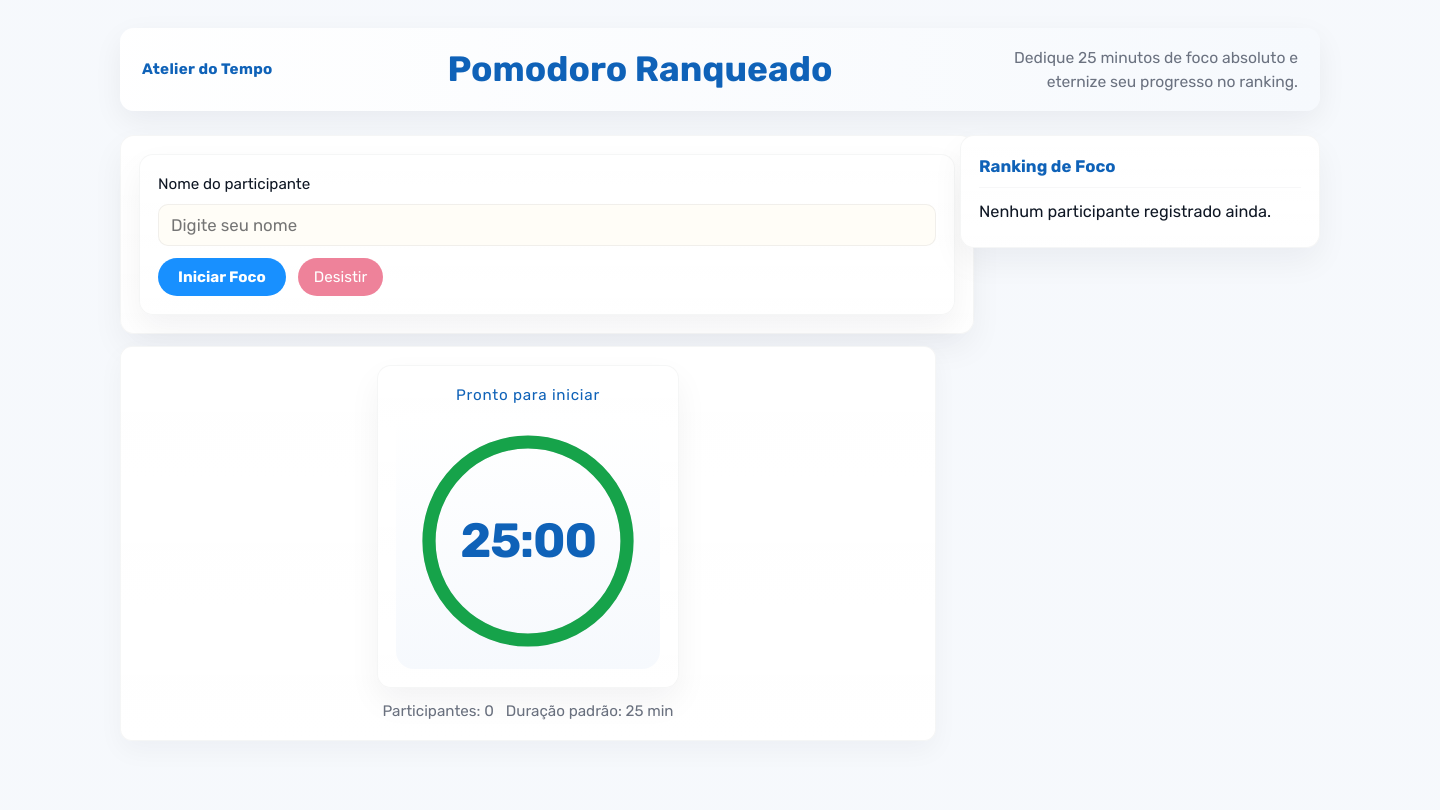
Test case: execução da sessão › desiste sem registrar tempo parcial
In the field labelled "Nome do participante": (547, 225) x1=158 y1=204 x2=936 y2=246, type "Ana"
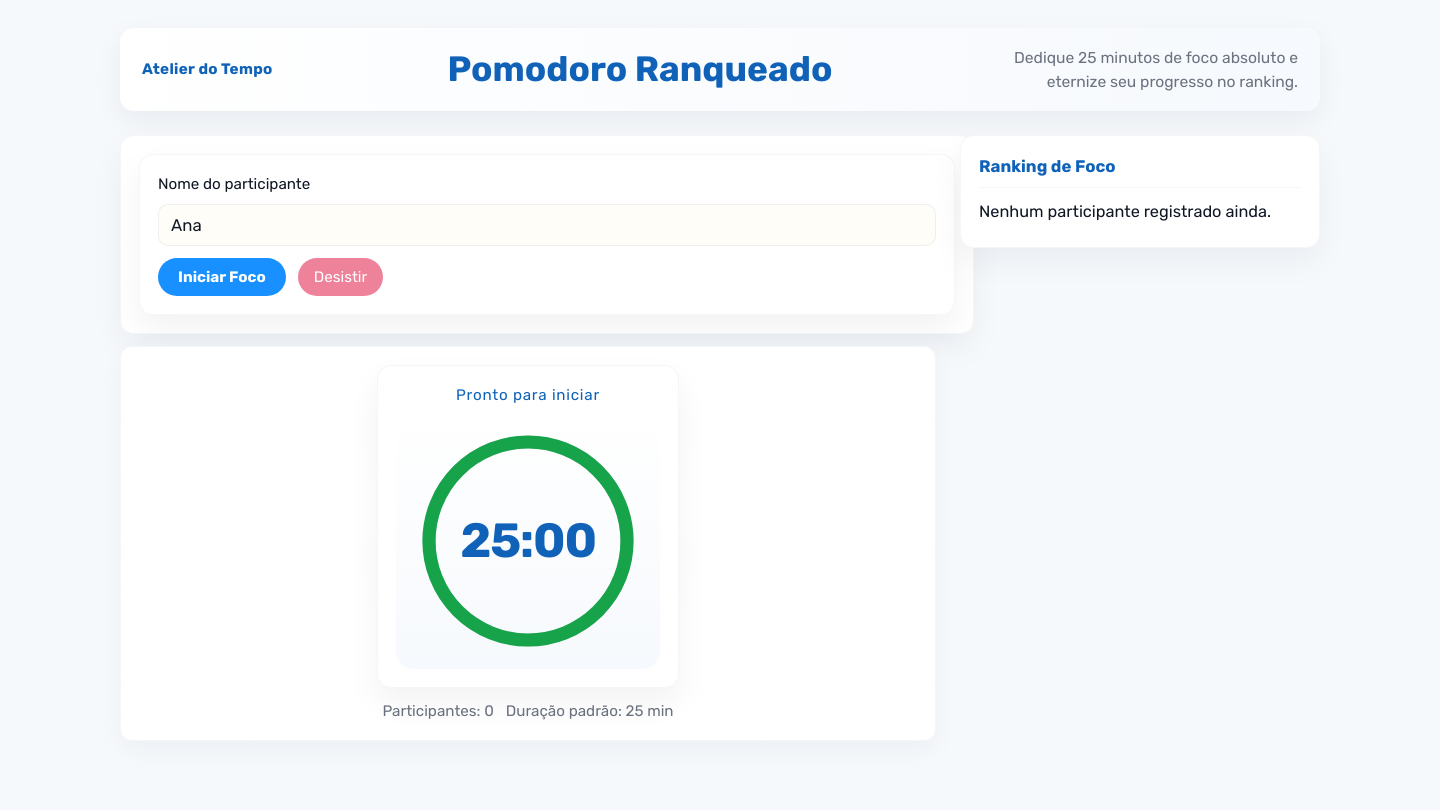
Click the button "Iniciar Foco": (222, 277) x1=158 y1=258 x2=286 y2=296
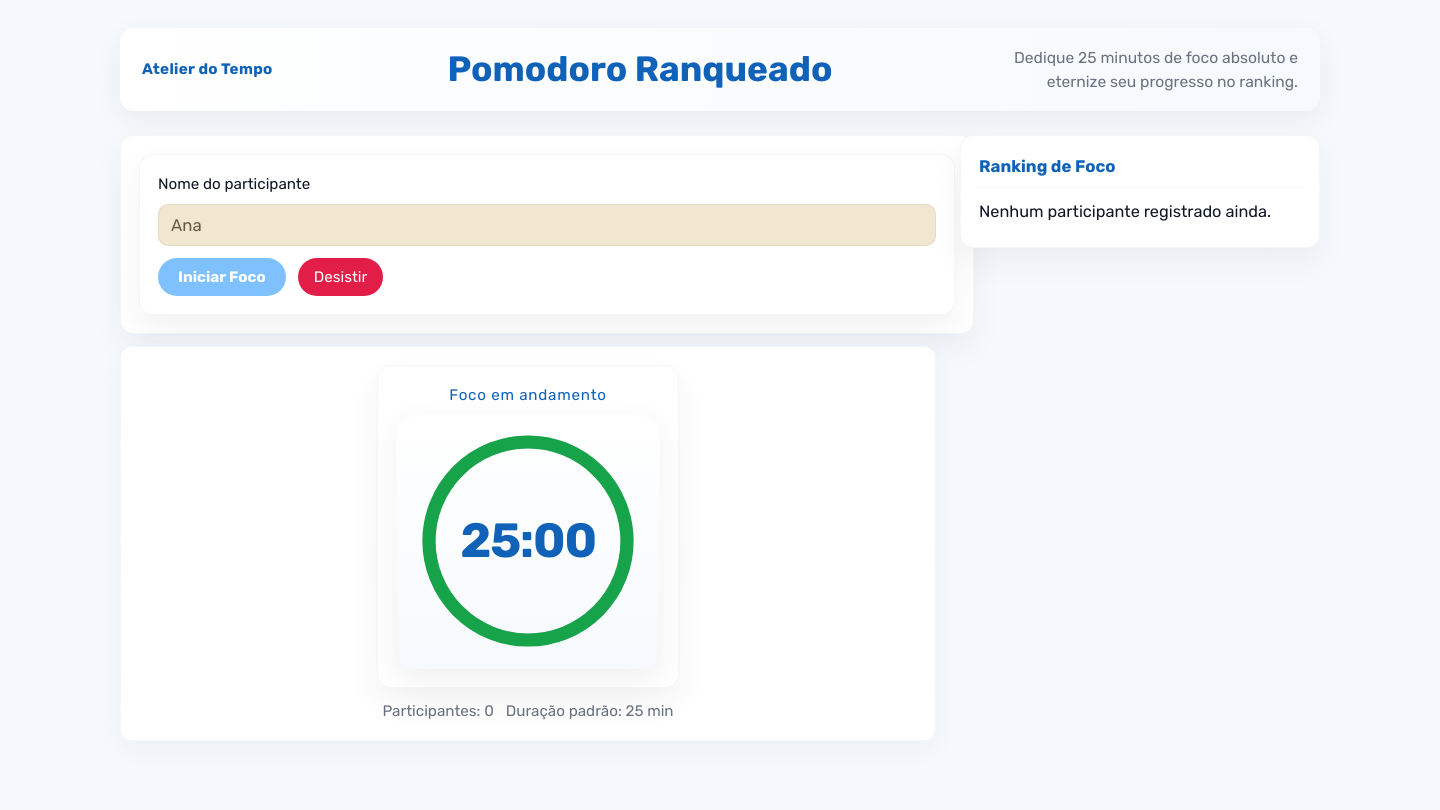
Click the button "Desistir": (341, 277) x1=298 y1=258 x2=383 y2=296
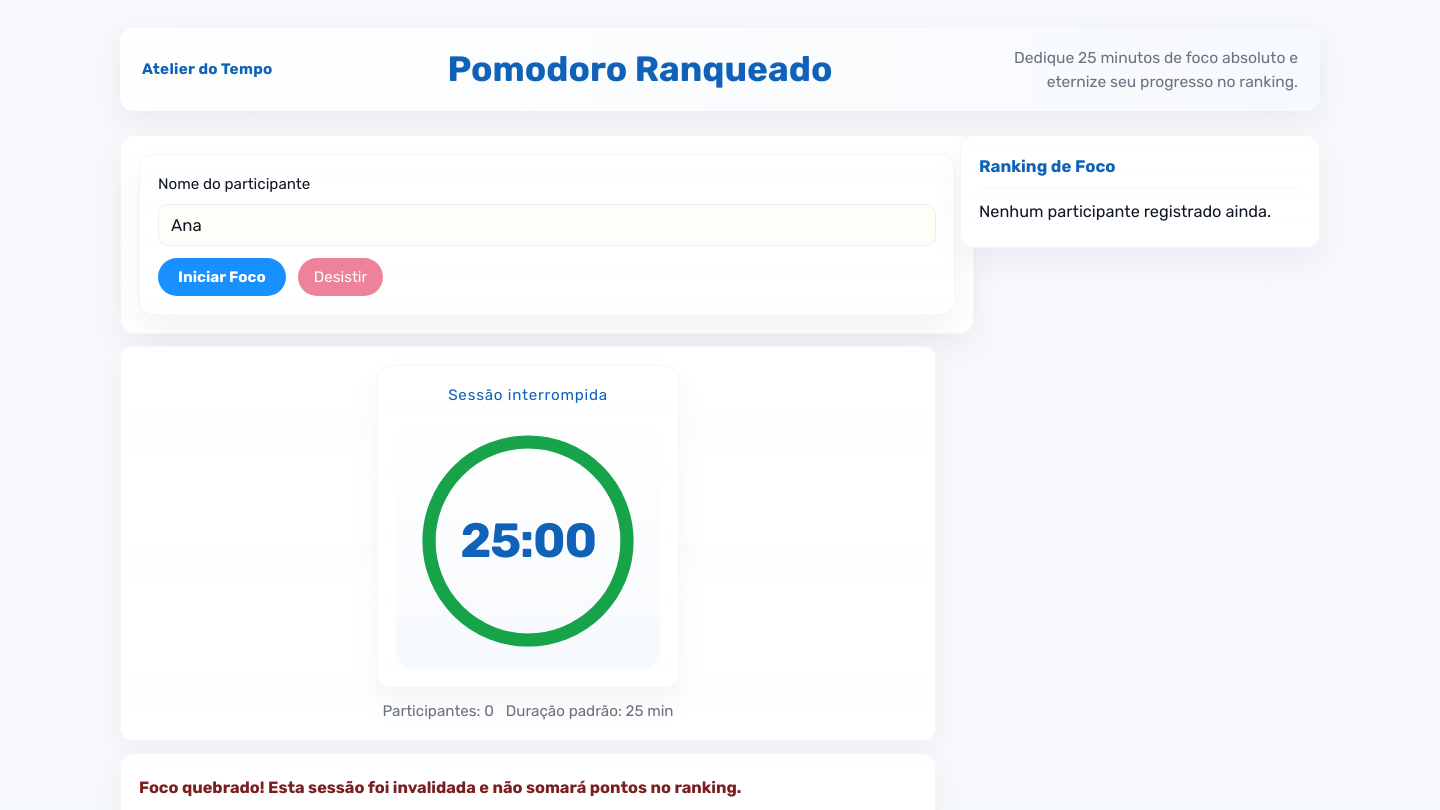
Expected: the text "25:00" is shown, x1=460 y1=512 x2=596 y2=569
Result: the text "Sessão interrompida" is shown at x1=448 y1=384 x2=608 y2=407
Result: the text "Foco quebrado! Esta sessão foi invalidada e não somará pontos no ranking." is shown at x1=139 y1=778 x2=741 y2=798
